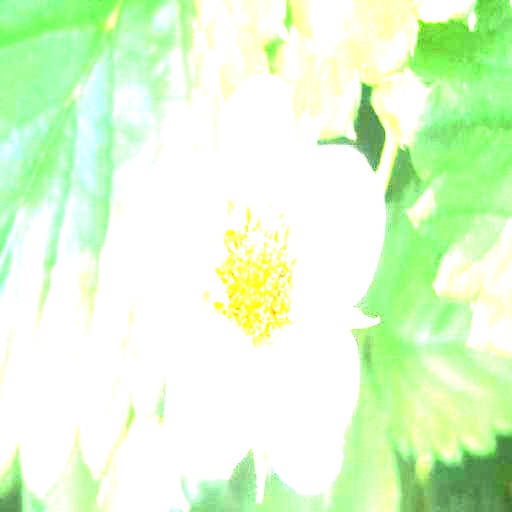Blossom Blight: (207, 193, 304, 344)
